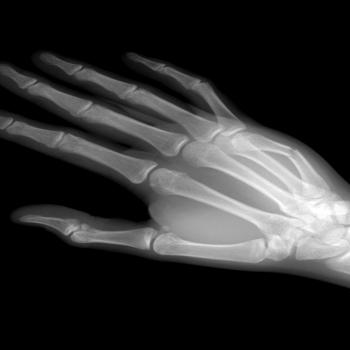Fracture: (283, 144, 301, 163)
